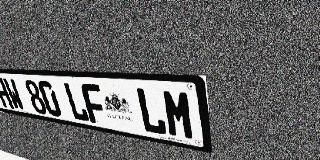0: (37, 80, 63, 117)
8: (23, 79, 48, 115)
F: (80, 83, 109, 126)
H: (0, 77, 14, 109)
L: (135, 87, 167, 136), (62, 82, 90, 122)
M: (161, 89, 196, 141)
W: (2, 78, 26, 111)
